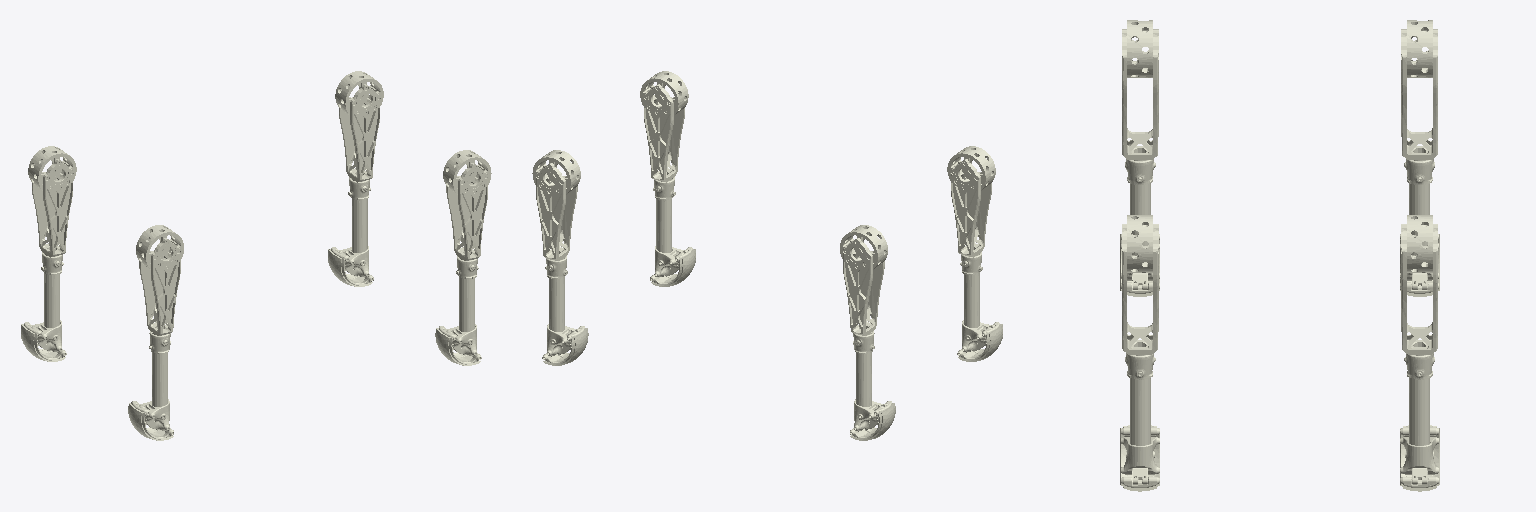
URDF robot description (Hound_description):

<robot name="Hound_description" xmlns:xacro="http://www.ros.org/wiki/xacro">
  <material name="black">
    <color rgba="0.0 0.0 0.0 1.0"/>
  </material>
  <material name="blue">
    <color rgba="0.0 0.0 0.8 1.0"/>
  </material>
  <material name="green">
    <color rgba="0.0 0.8 0.0 1.0"/>
  </material>
  <material name="grey">
    <color rgba="0.2 0.2 0.2 1.0"/>
  </material>
  <material name="silver">
    <color rgba="0.913725490196 0.913725490196 0.847058823529 1.0"/>
  </material>
  <material name="orange">
    <color rgba="1.0 0.423529411765 0.0392156862745 1.0"/>
  </material>
  <material name="brown">
    <color rgba="0.870588235294 0.811764705882 0.764705882353 1.0"/>
  </material>
  <material name="red">
    <color rgba="0.8 0.0 0.0 1.0"/>
  </material>
  <material name="white">
    <color rgba="1.0 1.0 1.0 1.0"/>
  </material>

  <link name="trunk">
    <visual>
      <origin rpy="0 0 0" xyz="0 0 0"/>
      <geometry>
        <mesh filename="base.stl" scale="1 1 1"/>
      </geometry>
      <material name="silver"/>
    </visual>
    <collision>
      <origin rpy="0 0 0" xyz="0 0 0"/>
      <geometry>
        <box size="0.56200000 0.25100000 0.14000000"/>
      </geometry>
    </collision>
    <inertial>
      <origin rpy="0 0 0" xyz="0.00131900 0.00023900 0.00387900"/>
      <mass value="18.47623500"/>
      <inertia ixx="0.21721300" ixy="0.00143000" ixz="0.00207600" iyy="0.80351400" iyz="0.00030900" izz="0.95808400"/>
    </inertial>
  </link>


<!--
  <joint name="lidar_fixed" type="fixed">
    <origin rpy="0 0 0" xyz="0.4215 0 -0.070"/>
    <parent link="trunk"/>
    <child link="lidar"/>
  </joint>
  <link name="lidar">
    <visual>
      <origin rpy="0 0 0" xyz="0 0 0"/>
      <geometry>
        <mesh filename="lidar.stl" scale="1 1 1"/>
      </geometry>
      <material name="silver"/>
    </visual>
    <collision>
      <origin rpy="0 0 0" xyz="0.0671 0 0.042"/>
      <geometry>
        <box size="0.140 0.163 0.233"/>
      </geometry>
    </collision>
    <inertial>
      <origin rpy="0 0 0" xyz="0.05231314 0.00155470 0.03320621"/>
      <mass value="1.715"/>
      <inertia ixx="0.01284248" ixy="-0.00000496" ixz="0.00048574" iyy="0.01182010" iyz="-0.00012288" izz="0.00771190"/>
    </inertial>
  </link>

  <joint name="rear_cam_fixed" type="fixed">
    <origin rpy="0 0 0" xyz="-0.4215 0 -0.070"/>
    <parent link="trunk"/>
    <child link="rear_cam"/>
  </joint>
  <link name="rear_cam">
    <visual>
      <origin rpy="0 0 0" xyz="0 0 0"/>
      <geometry>
        <mesh filename="rear_cam.stl" scale="1 1 1"/>
      </geometry>
      <material name="silver"/>
    </visual>
    <collision>
      <origin rpy="0 0 0" xyz="0.0745 0 -0.020"/>
      <geometry>
        <box size="0.150 0.080 0.040"/>
      </geometry>
    </collision>
    <inertial>
      <origin rpy="0 0 0" xyz="0.07235258 -0.00001318 -0.01430797"/>
      <mass value="0.176"/>
      <inertia ixx="0.00008264" ixy="0.00000000" ixz="-0.00000147" iyy="0.00031979" iyz="0.00000000" izz="0.00038072"/>
    </inertial>
  </link>
-->

  <joint name="RR_roll_joint" type="revolute">
    <origin rpy="0 0 0" xyz="-0.35147000 -0.10000000 0.00000000"/>
    <parent link="trunk"/>
    <child link="RR_shoulder"/>
    <axis xyz="1 0 0"/>
    <dynamics rotor_inertia="0.01405600" damping="0" friction="0"/>
    <limit effort="200.00000000" lower="-0.78539816" upper="0.78539816" velocity="21.29000000"/>
  </joint>
  <link name="RR_shoulder">
    <visual>
      <origin rpy="0 3.141592 0" xyz="0 0 0"/>
      <geometry>
        <mesh filename="shoulder.stl" scale="1 1 1"/>
      </geometry>
      <material name="grey"/>
    </visual>
    <collision>
      <origin rpy="1.57079632679 0 0" xyz="0 -0.00500000 0"/>
      <geometry>
        <cylinder length="0.13300000" radius="0.06100000"/>
      </geometry>
    </collision>
    <inertial>
      <origin rpy="0 0 0" xyz="0.00304326 -0.00050825 0.00001789"/>
      <mass value="3.86933709"/>
      <inertia ixx="0.00858804" ixy="-0.00015474" ixz="-0.00000061" iyy="0.00737145" iyz="-0.00000042" izz="0.00928864"/>
    </inertial>
  </link>
  <joint name="RR_hip_joint" type="revolute">
    <origin rpy="0 0 0" xyz="0 -0.11350000 0"/>
    <parent link="RR_shoulder"/>
    <child link="RR_thigh"/>
    <axis xyz="0 1 0"/>
    <dynamics rotor_inertia="0.01405600" damping="0" friction="0"/>
    <limit effort="200.00000000" lower="-6.28318531" upper="6.28318531" velocity="21.29000000"/>
  </joint>
  <link name="RR_thigh">
    <visual>
      <origin rpy="0 0 0" xyz="0 0 0"/>
      <geometry>
        <mesh filename="thigh.stl" scale="1 1 1"/>
      </geometry>
      <material name="grey"/>
    </visual>
    <collision>
      <origin rpy="0 0 0" xyz="0 0 -0.16395000"/>
      <geometry>
        <box size="0.08500000 0.07000000 0.35000000"/>
      </geometry>
    </collision>
    <inertial>
      <origin rpy="0 0 0" xyz="0.00000000 0.01475079 -0.11906126"/>
      <mass value="1.38775820"/>
      <inertia ixx="0.02401331" ixy="0.00000000" ixz="0.00000000" iyy="0.02340658" iyz="0.00229407" izz="0.00240062"/>
    </inertial>
  </link>

  <joint name="RR_knee_joint" type="revolute">
    <origin rpy="0 0 0" xyz="0 0 -0.32790000"/>
    <parent link="RR_thigh"/>
    <child link="RR_calf"/>
    <axis xyz="0 1 0"/>
    <dynamics rotor_inertia="0.05624622" damping="0" friction="0"/>
    <limit effort="400.00000000" lower="-2.79252680" upper="2.79252680" velocity="10.00000000"/>
  </joint>
  <link name="RR_calf">
    <visual>
      <origin rpy="0 0 0" xyz="0 0 0"/>
      <geometry>
        <mesh filename="calf.stl" scale="1 1 1"/>
      </geometry>
      <material name="silver"/>
    </visual>
    <collision>
      <origin rpy="0 0 0" xyz="0 0 -0.20000000"/>
      <geometry>
        <cylinder length="0.26500000" radius="0.02500000"/>
      </geometry>
    </collision>
    <inertial>
      <origin rpy="0 0 0" xyz="-0.00443245 0.00000000 -0.14757071"/>
      <mass value="0.82086930"/>
      <inertia ixx="0.01850881" ixy="0.00000000" ixz="0.00000000" iyy="0.01866790" iyz="0.00000000" izz="0.00061888"/>
    </inertial>
  </link>
  <joint name="RR_foot_fixed" type="fixed">
    <origin rpy="0 0 0" xyz="0 0 -0.34920000"/>
    <parent link="RR_calf"/>
    <child link="RR_foot"/>
  </joint>
  <link name="RR_foot">
<!--
    <visual>
      <origin rpy="0 0 0" xyz="0 0 0"/>
      <geometry>
        <sphere radius="0.06300000"/>
      </geometry>
    </visual>
-->
    <collision>
      <origin rpy="0 0 0" xyz="0 0 0"/>
      <geometry>
        <sphere radius="0.06300000"/>
      </geometry>
    </collision>
    <inertial>
      <origin rpy="0 0 0" xyz="0.0 0.0 0.0"/>
      <mass value="0.010"/>
      <inertia ixx="0.000001" ixy="0.0" ixz="0.0" iyy="0.000001" iyz="0.0" izz="0.000001"/>
    </inertial>
  </link>

	
  <joint name="RL_roll_joint" type="revolute">
    <origin rpy="0 0 0" xyz="-0.35147000 0.10000000 0.00000000"/>
    <parent link="trunk"/>
    <child link="RL_shoulder"/>
    <axis xyz="1 0 0"/>
    <dynamics rotor_inertia="0.01405600" damping="0" friction="0"/>
    <limit effort="200.00000000" lower="-0.78539816" upper="0.78539816" velocity="21.29000000"/>
  </joint>
  <link name="RL_shoulder">
    <visual>
      <origin rpy="0 0 3.141592" xyz="0 0 0"/>
      <geometry>
        <mesh filename="shoulder.stl" scale="1 1 1"/>
      </geometry>
      <material name="grey"/>
    </visual>
    <collision>
      <origin rpy="1.57079632679 0 0" xyz="0 0.00500000 0"/>
      <geometry>
        <cylinder length="0.13300000" radius="0.06100000"/>
      </geometry>
    </collision>
    <inertial>
      <origin rpy="0 0 0" xyz="0.00304326 0.00050825 -0.00001789"/>
      <mass value="3.86933709"/>
      <inertia ixx="0.00858804" ixy="0.00015474" ixz="0.00000061" iyy="0.00737145" iyz="-0.00000042" izz="0.00928864"/>
    </inertial>
  </link>
  <joint name="RL_hip_joint" type="revolute">
    <origin rpy="0 0 0" xyz="0 0.11350000 0"/>
    <parent link="RL_shoulder"/>
    <child link="RL_thigh"/>
    <axis xyz="0 1 0"/>
    <dynamics rotor_inertia="0.01405600" damping="0" friction="0"/>
    <limit effort="200.00000000" lower="-6.28318531" upper="6.28318531" velocity="21.29000000"/>
  </joint>
  <link name="RL_thigh">
    <visual>
      <origin rpy="0 0 3.141592" xyz="0 0 0"/>
      <geometry>
        <mesh filename="thigh.stl" scale="1 1 1"/>
      </geometry>
      <material name="grey"/>
    </visual>
    <collision>
      <origin rpy="0 0 0" xyz="0 0 -0.16395000"/>
      <geometry>
        <box size="0.08500000 0.07000000 0.35000000"/>
      </geometry>
    </collision>
    <inertial>
      <origin rpy="0 0 0" xyz="-0.00000000 -0.01475079 -0.11906126"/>
      <mass value="1.38775820"/>
      <inertia ixx="0.02401331" ixy="0.00000000" ixz="-0.00000000" iyy="0.02340658" iyz="-0.00229407" izz="0.00240062"/>
    </inertial>
  </link>
  <joint name="RL_knee_joint" type="revolute">
    <origin rpy="0 0 0" xyz="0 0 -0.32790000"/>
    <parent link="RL_thigh"/>
    <child link="RL_calf"/>
    <axis xyz="0 1 0"/>
    <dynamics rotor_inertia="0.05624622" damping="0" friction="0"/>
    <limit effort="400.00000000" lower="-2.79252680" upper="2.79252680" velocity="10.00000000"/>
  </joint>
  <link name="RL_calf">
    <visual>
      <origin rpy="0 0 0" xyz="0 0 0"/>
      <geometry>
        <mesh filename="calf.stl" scale="1 1 1"/>
      </geometry>
      <material name="silver"/>
    </visual>
    <collision>
      <origin rpy="0 0 0" xyz="0 0 -0.20000000"/>
      <geometry>
        <cylinder length="0.26500000" radius="0.02500000"/>
      </geometry>
    </collision>
    <inertial>
      <origin rpy="0 0 0" xyz="-0.00443245 -0.00000000 -0.14757071"/>
      <mass value="0.82086930"/>
      <inertia ixx="0.01850881" ixy="-0.00000000" ixz="0.00000000" iyy="0.01866790" iyz="-0.00000000" izz="0.00061888"/>
    </inertial>
  </link>
  <joint name="RL_foot_fixed" type="fixed">
    <origin rpy="0 0 0" xyz="0 0 -0.34920000"/>
    <parent link="RL_calf"/>
    <child link="RL_foot"/>
  </joint>
  <link name="RL_foot">
<!--
    <visual>
      <origin rpy="0 0 0" xyz="0 0 0"/>
      <geometry>
        <sphere radius="0.06300000"/>
      </geometry>
    </visual>
-->
    <collision>
      <origin rpy="0 0 0" xyz="0 0 0"/>
      <geometry>
        <sphere radius="0.06300000"/>
      </geometry>
    </collision>
    <inertial>
      <origin rpy="0 0 0" xyz="0.0 0.0 0.0"/>
      <mass value="0.010"/>
      <inertia ixx="0.000001" ixy="0.0" ixz="0.0" iyy="0.000001" iyz="0.0" izz="0.000001"/>
    </inertial>
  </link>


  <joint name="FR_roll_joint" type="revolute">
    <origin rpy="0 0 0" xyz="0.35147000 -0.10000000 0.00000000"/>
    <parent link="trunk"/>
    <child link="FR_shoulder"/>
    <axis xyz="1 0 0"/>
    <dynamics rotor_inertia="0.01405600" damping="0" friction="0"/>
    <limit effort="200.00000000" lower="-0.78539816" upper="0.78539816" velocity="21.29000000"/>
  </joint>
  <link name="FR_shoulder">
    <visual>
      <origin rpy="0 0 0" xyz="0 0 0"/>
      <geometry>
        <mesh filename="shoulder.stl" scale="1 1 1"/>
      </geometry>
      <material name="grey"/>
    </visual>
    <collision>
      <origin rpy="1.57079632679 0 0" xyz="0 -0.00500000 0"/>
      <geometry>
        <cylinder length="0.13300000" radius="0.06100000"/>
      </geometry>
    </collision>
    <inertial>
      <origin rpy="0 0 0" xyz="-0.00304326 -0.00050825 -0.00001789"/>
      <mass value="3.86933709"/>
      <inertia ixx="0.00858804" ixy="0.00015474" ixz="-0.00000061" iyy="0.00737145" iyz="0.00000042" izz="0.00928864"/>
    </inertial>
  </link>
  <joint name="FR_hip_joint" type="revolute">
    <origin rpy="0 0 0" xyz="0 -0.11350000 0"/>
    <parent link="FR_shoulder"/>
    <child link="FR_thigh"/>
    <axis xyz="0 1 0"/>
    <dynamics rotor_inertia="0.01405600" damping="0" friction="0"/>
    <limit effort="200.00000000" lower="-6.28318531" upper="6.28318531" velocity="21.29000000"/>
  </joint>
  <link name="FR_thigh">
    <visual>
      <origin rpy="0 0 0" xyz="0 0 0"/>
      <geometry>
        <mesh filename="thigh.stl" scale="1 1 1"/>
      </geometry>
      <material name="grey"/>
    </visual>
    <collision>
      <origin rpy="0 0 0" xyz="0 0 -0.16395000"/>
      <geometry>
        <box size="0.08500000 0.07000000 0.35000000"/>
      </geometry>
    </collision>
    <inertial>
      <origin rpy="0 0 0" xyz="0.00000000 0.01475079 -0.11906126"/>
      <mass value="1.38775820"/>
      <inertia ixx="0.02401331" ixy="0.00000000" ixz="0.00000000" iyy="0.02340658" iyz="0.00229407" izz="0.00240062"/>
    </inertial>
  </link>
  <joint name="FR_knee_joint" type="revolute">
    <origin rpy="0 0 0" xyz="0 0 -0.32790000"/>
    <parent link="FR_thigh"/>
    <child link="FR_calf"/>
    <axis xyz="0 1 0"/>
    <dynamics rotor_inertia="0.05624622" damping="0" friction="0"/>
    <limit effort="400.00000000" lower="-2.79252680" upper="2.79252680" velocity="10.00000000"/>
  </joint>
  <link name="FR_calf">
    <visual>
      <origin rpy="0 0 0" xyz="0 0 0"/>
      <geometry>
        <mesh filename="calf.stl" scale="1 1 1"/>
      </geometry>
      <material name="silver"/>
    </visual>
    <collision>
      <origin rpy="0 0 0" xyz="0 0 -0.20000000"/>
      <geometry>
        <cylinder length="0.26500000" radius="0.02500000"/>
      </geometry>
    </collision>
    <inertial>
      <origin rpy="0 0 0" xyz="-0.00443245 0.00000000 -0.14757071"/>
      <mass value="0.82086930"/>
      <inertia ixx="0.01850881" ixy="0.00000000" ixz="0.00000000" iyy="0.01866790" iyz="0.00000000" izz="0.00061888"/>
    </inertial>
  </link>
  <joint name="FR_foot_fixed" type="fixed">
    <origin rpy="0 0 0" xyz="0 0 -0.34920000"/>
    <parent link="FR_calf"/>
    <child link="FR_foot"/>
  </joint>
  <link name="FR_foot">
<!--
    <visual>
      <origin rpy="0 0 0" xyz="0 0 0"/>
      <geometry>
        <sphere radius="0.06300000"/>
      </geometry>
    </visual>
-->
    <collision>
      <origin rpy="0 0 0" xyz="0 0 0"/>
      <geometry>
        <sphere radius="0.06300000"/>
      </geometry>
    </collision>
    <inertial>
      <origin rpy="0 0 0" xyz="0.0 0.0 0.0"/>
      <mass value="0.010"/>
      <inertia ixx="0.000001" ixy="0.0" ixz="0.0" iyy="0.000001" iyz="0.0" izz="0.000001"/>
    </inertial>
  </link>


  <joint name="FL_roll_joint" type="revolute">
    <origin rpy="0 0 0" xyz="0.35147000 0.10000000 0.00000000"/>
    <parent link="trunk"/>
    <child link="FL_shoulder"/>
    <axis xyz="1 0 0"/>
    <dynamics rotor_inertia="0.01405600" damping="0" friction="0"/>
    <limit effort="200.00000000" lower="-0.78539816" upper="0.78539816" velocity="21.29000000"/>
  </joint>
  <link name="FL_shoulder">
    <visual>
      <origin rpy="3.141592 0 0" xyz="0 0 0"/>
      <geometry>
        <mesh filename="shoulder.stl" scale="1 1 1"/>
      </geometry>
      <material name="grey"/>
    </visual>
    <collision>
      <origin rpy="1.57079632679 0 0" xyz="0 0.00500000 0"/>
      <geometry>
        <cylinder length="0.13300000" radius="0.06100000"/>
      </geometry>
    </collision>
    <inertial>
      <origin rpy="0 0 0" xyz="-0.00304326 0.00050825 0.00001789"/>
      <mass value="3.86933709"/>
      <inertia ixx="0.00858804" ixy="-0.00015474" ixz="0.00000061" iyy="0.00737145" iyz="0.00000042" izz="0.00928864"/>
    </inertial>
  </link>
  <joint name="FL_hip_joint" type="revolute">
    <origin rpy="0 0 0" xyz="0 0.11350000 0"/>
    <parent link="FL_shoulder"/>
    <child link="FL_thigh"/>
    <axis xyz="0 1 0"/>
    <dynamics rotor_inertia="0.01405600" damping="0" friction="0"/>
    <limit effort="200.00000000" lower="-6.28318531" upper="6.28318531" velocity="21.29000000"/>
  </joint>
  <link name="FL_thigh">
    <visual>
      <origin rpy="0 0 3.141592" xyz="0 0 0"/>
      <geometry>
        <mesh filename="thigh.stl" scale="1 1 1"/>
      </geometry>
      <material name="grey"/>
    </visual>
    <collision>
      <origin rpy="0 0 0" xyz="0 0 -0.16395000"/>
      <geometry>
        <box size="0.08500000 0.07000000 0.35000000"/>
      </geometry>
    </collision>
    <inertial>
      <origin rpy="0 0 0" xyz="-0.00000000 -0.01475079 -0.11906126"/>
      <mass value="1.38775820"/>
      <inertia ixx="0.02401331" ixy="0.00000000" ixz="-0.00000000" iyy="0.02340658" iyz="-0.00229407" izz="0.00240062"/>
    </inertial>
  </link>
  <joint name="FL_knee_joint" type="revolute">
    <origin rpy="0 0 0" xyz="0 0 -0.32790000"/>
    <parent link="FL_thigh"/>
    <child link="FL_calf"/>
    <axis xyz="0 1 0"/>
    <dynamics rotor_inertia="0.05624622" damping="0" friction="0"/>
    <limit effort="400.00000000" lower="-2.79252680" upper="2.79252680" velocity="10.00000000"/>
  </joint>
  <link name="FL_calf">
    <visual>
      <origin rpy="0 0 0" xyz="0 0 0"/>
      <geometry>
        <mesh filename="calf.stl" scale="1 1 1"/>
      </geometry>
      <material name="silver"/>
    </visual>
    <collision>
      <origin rpy="0 0 0" xyz="0 0 -0.20000000"/>
      <geometry>
        <cylinder length="0.26500000" radius="0.02500000"/>
      </geometry>
    </collision>
    <inertial>
      <origin rpy="0 0 0" xyz="-0.00443245 -0.00000000 -0.14757071"/>
      <mass value="0.82086930"/>
      <inertia ixx="0.01850881" ixy="-0.00000000" ixz="0.00000000" iyy="0.01866790" iyz="-0.00000000" izz="0.00061888"/>
    </inertial>
  </link>
  <joint name="FL_foot_fixed" type="fixed">
    <origin rpy="0 0 0" xyz="0 0 -0.34920000"/>
    <parent link="FL_calf"/>
    <child link="FL_foot"/>
  </joint>
  <link name="FL_foot">
<!--
    <visual>
      <origin rpy="0 0 0" xyz="0 0 0"/>
      <geometry>
        <sphere radius="0.06300000"/>
      </geometry>
    </visual>
-->
    <collision>
      <origin rpy="0 0 0" xyz="0 0 0"/>
      <geometry>
        <sphere radius="0.06300000"/>
      </geometry>
    </collision>
    <inertial>
      <origin rpy="0 0 0" xyz="0.0 0.0 0.0"/>
      <mass value="0.010"/>
      <inertia ixx="0.000001" ixy="0.0" ixz="0.0" iyy="0.000001" iyz="0.0" izz="0.000001"/>
    </inertial>
  </link>


</robot>

--- Facts derived from the render (not from the file) ---
3 views of the same robot in one strip: view 1: azimuth 30°, elevation 25°; view 2: azimuth 150°, elevation 25°; view 3: azimuth 270°, elevation 25° (orthographic).
Model Hound_description with 17 links and 16 joints (12 revolute, 4 fixed), rooted at trunk, posed all joints at 0.
Links seen in each view (by area): view 1: FR_calf, RR_calf, RL_calf, FL_calf; view 2: FL_calf, RL_calf, RR_calf, FR_calf; view 3: FR_calf, FL_calf, RL_calf, RR_calf.
Boxes of the visible links, <box> form: FR_calf: <box>435,150,491,365</box>; RR_calf: <box>128,225,183,440</box>; RL_calf: <box>21,146,76,361</box>; FL_calf: <box>328,71,383,286</box>; FL_calf: <box>532,150,588,365</box>; RL_calf: <box>840,225,895,440</box>; RR_calf: <box>947,146,1002,361</box>; FR_calf: <box>640,71,695,286</box>; FR_calf: <box>1120,215,1159,491</box>; FL_calf: <box>1400,215,1439,491</box>; RL_calf: <box>1400,20,1439,296</box>; RR_calf: <box>1120,20,1159,296</box>.
Size in the robot's own frame: 0.81 by 0.4873 by 0.456 metres.
Meshes: 4 distinct files referenced, 4 mesh visuals loaded (1 binary STL); not drawn: 9 (reference not matched to a file when rendering).